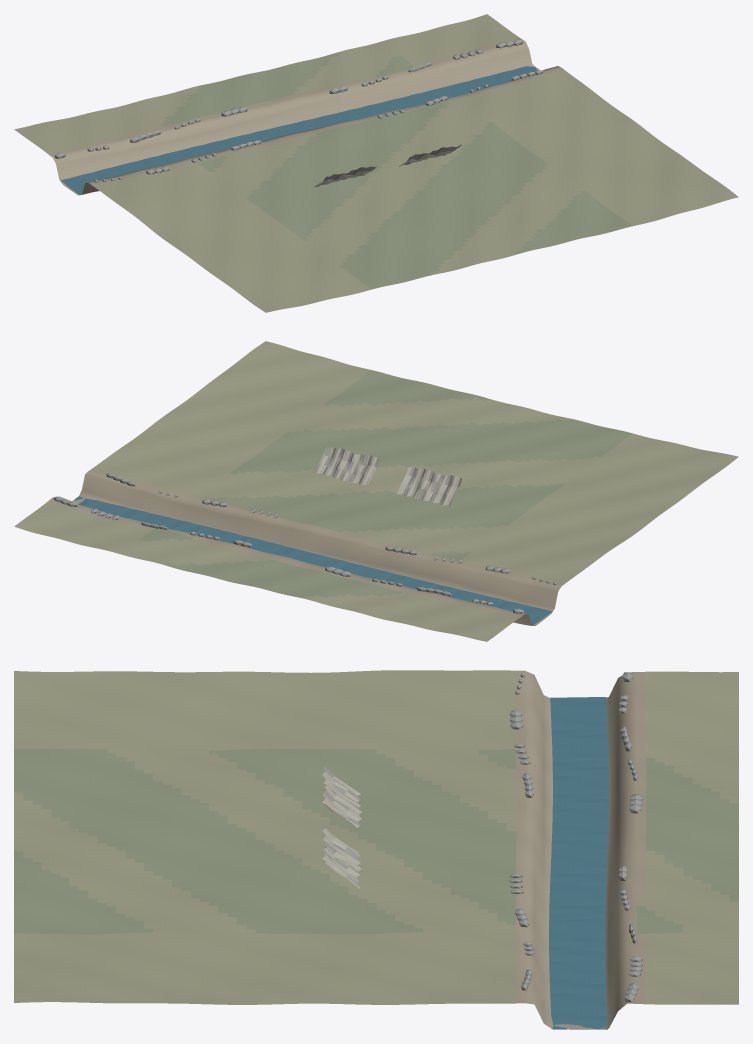
File: ValoriaTerrainRiverCliffV1.glb
3 views of the same model, one above another, from view 1: azimuth 30°, elevation 25°; view 2: azimuth 150°, elevation 25°; view 3: azimuth 270°, elevation 25° (orthographic). The views are drawn at different scales.
Parts seen in each view (by area): view 1: VALORIA_LOWER_REAL_TERRAIN_NATIVE_HEIGHTFIELD, VALORIA_RIVER_CONTINUOUS_RIPPLED_WATER, VALORIA_RIVERBANK_AUTHOR_ROCKS; view 2: VALORIA_LOWER_REAL_TERRAIN_NATIVE_HEIGHTFIELD, VALORIA_RIVER_CONTINUOUS_RIPPLED_WATER, VALORIA_RIVERBANK_AUTHOR_ROCKS, VALORIA_LOWER_TO_UPPER_FACETED_STONE_FLANK_-1, VALORIA_LOWER_TO_UPPER_FACETED_STONE_FLANK_1; view 3: VALORIA_LOWER_REAL_TERRAIN_NATIVE_HEIGHTFIELD, VALORIA_RIVER_CONTINUOUS_RIPPLED_WATER, VALORIA_RIVERBANK_AUTHOR_ROCKS, VALORIA_LOWER_TO_UPPER_FACETED_STONE_FLANK_-1, VALORIA_LOWER_TO_UPPER_FACETED_STONE_FLANK_1.
Part boxes in pixels (x1,y1,x2,y2): VALORIA_LOWER_REAL_TERRAIN_NATIVE_HEIGHTFIELD: [14, 14, 738, 312]; VALORIA_RIVER_CONTINUOUS_RIPPLED_WATER: [60, 66, 537, 194]; VALORIA_RIVERBANK_AUTHOR_ROCKS: [54, 39, 543, 182]; VALORIA_LOWER_REAL_TERRAIN_NATIVE_HEIGHTFIELD: [14, 341, 738, 641]; VALORIA_RIVER_CONTINUOUS_RIPPLED_WATER: [74, 496, 552, 625]; VALORIA_RIVERBANK_AUTHOR_ROCKS: [54, 473, 556, 613]; VALORIA_LOWER_TO_UPPER_FACETED_STONE_FLANK_-1: [397, 467, 461, 506]; VALORIA_LOWER_TO_UPPER_FACETED_STONE_FLANK_1: [314, 446, 379, 485]; VALORIA_LOWER_REAL_TERRAIN_NATIVE_HEIGHTFIELD: [14, 670, 738, 1029]; VALORIA_RIVER_CONTINUOUS_RIPPLED_WATER: [549, 697, 608, 1029]; VALORIA_RIVERBANK_AUTHOR_ROCKS: [509, 672, 642, 1002]; VALORIA_LOWER_TO_UPPER_FACETED_STONE_FLANK_-1: [322, 767, 361, 830]; VALORIA_LOWER_TO_UPPER_FACETED_STONE_FLANK_1: [322, 825, 361, 888].
Size of the model in its own units: 64 by 5.09 by 59.
